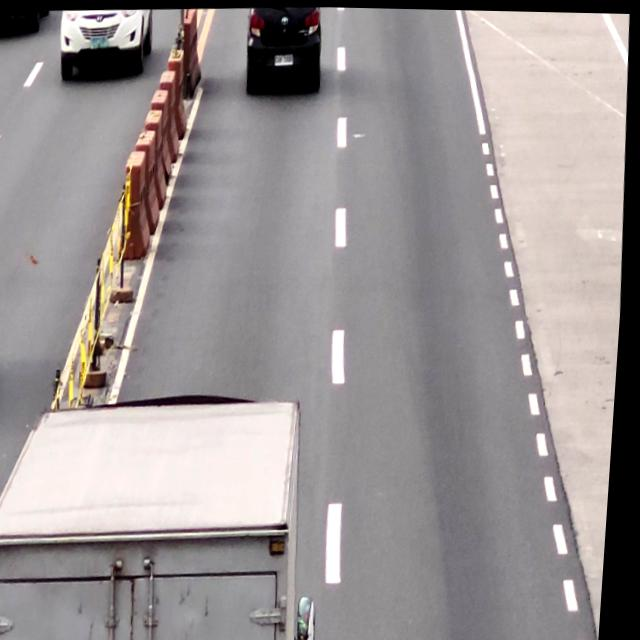Car: (241, 4, 326, 96)
License-Plate: (273, 51, 295, 68)
Truck: (0, 383, 336, 640)
